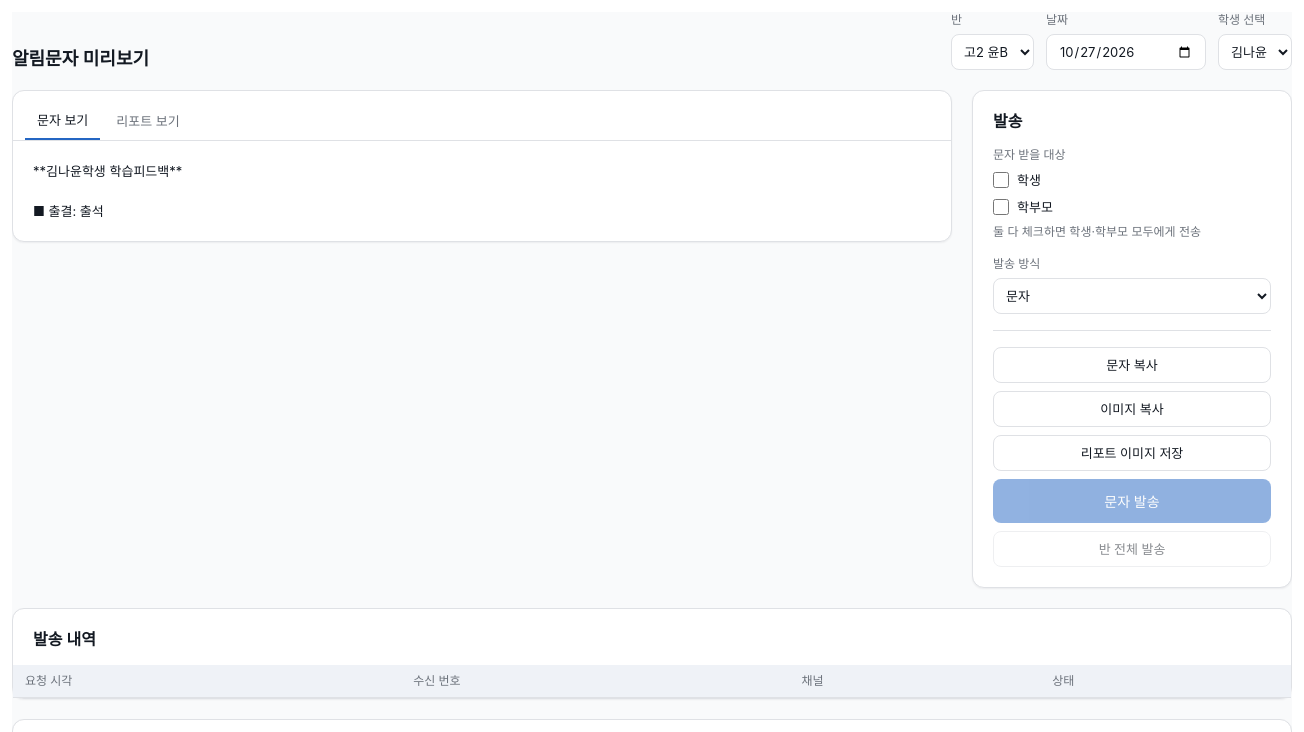
Test: disables sending until a recipient is selected
Check: the button "문자 발송" is disabled, box [993, 479, 1271, 523]
Click the checkbox labelled "학부모". click: [1001, 207]
box: [993, 199, 1009, 215]
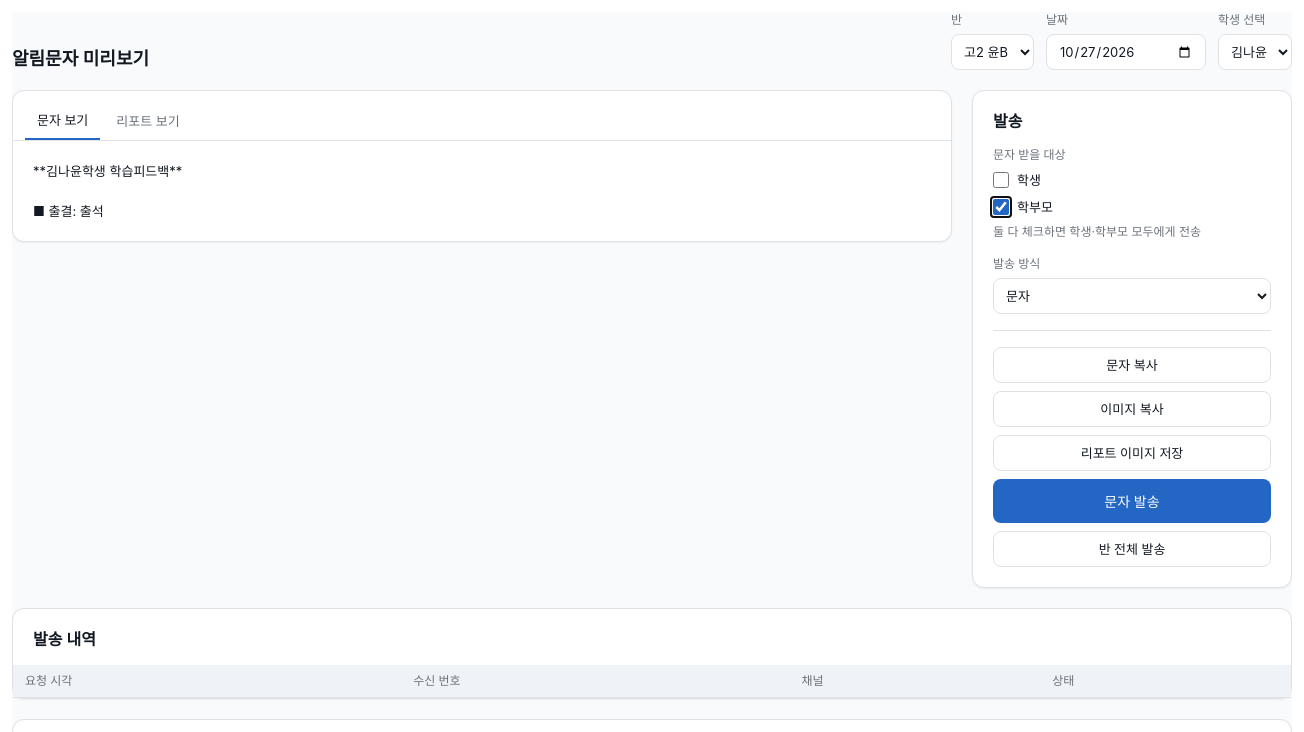
Check: the button "문자 발송" is enabled, box [993, 479, 1271, 523]
